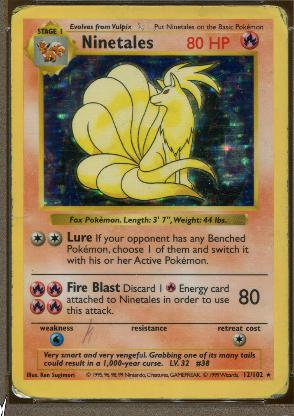Card: (8, 2, 291, 401)
Corner Wear: (9, 376, 34, 400), (267, 375, 290, 400), (265, 3, 289, 26), (11, 3, 36, 21)
Edge Wear: (10, 84, 14, 234), (285, 150, 289, 292), (10, 248, 13, 338), (199, 4, 264, 8)
Scratch: (133, 21, 146, 33)
